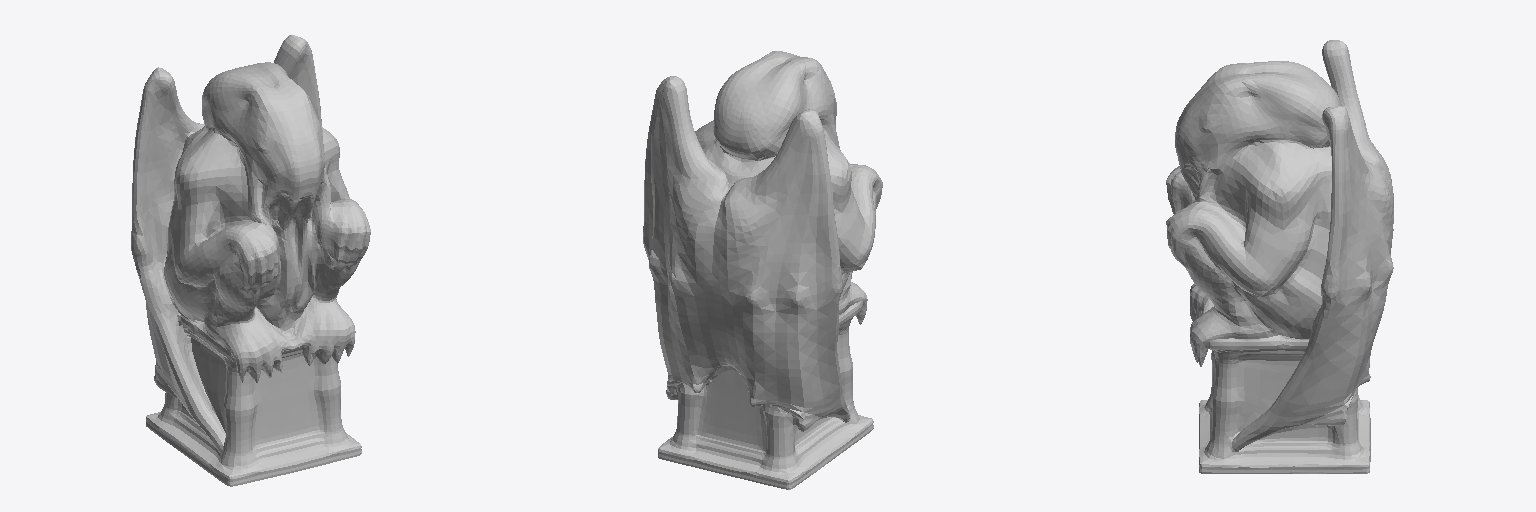
File: Horror_low_subd.obj
3 views of the same model, side by side, from view 1: azimuth 30°, elevation 25°; view 2: azimuth 150°, elevation 25°; view 3: azimuth 270°, elevation 25° (orthographic).
Visible parts, largest first — view 1: Horror_Body.003; view 2: Horror_Body.003; view 3: Horror_Body.003.
Boxes of the visible parts, x1,y1,x2,y2 form: Horror_Body.003: [131, 35, 370, 486]; Horror_Body.003: [643, 51, 882, 489]; Horror_Body.003: [1166, 40, 1393, 473].
Bounding box in the file's own units: 3.33 × 6.04 × 3.34.